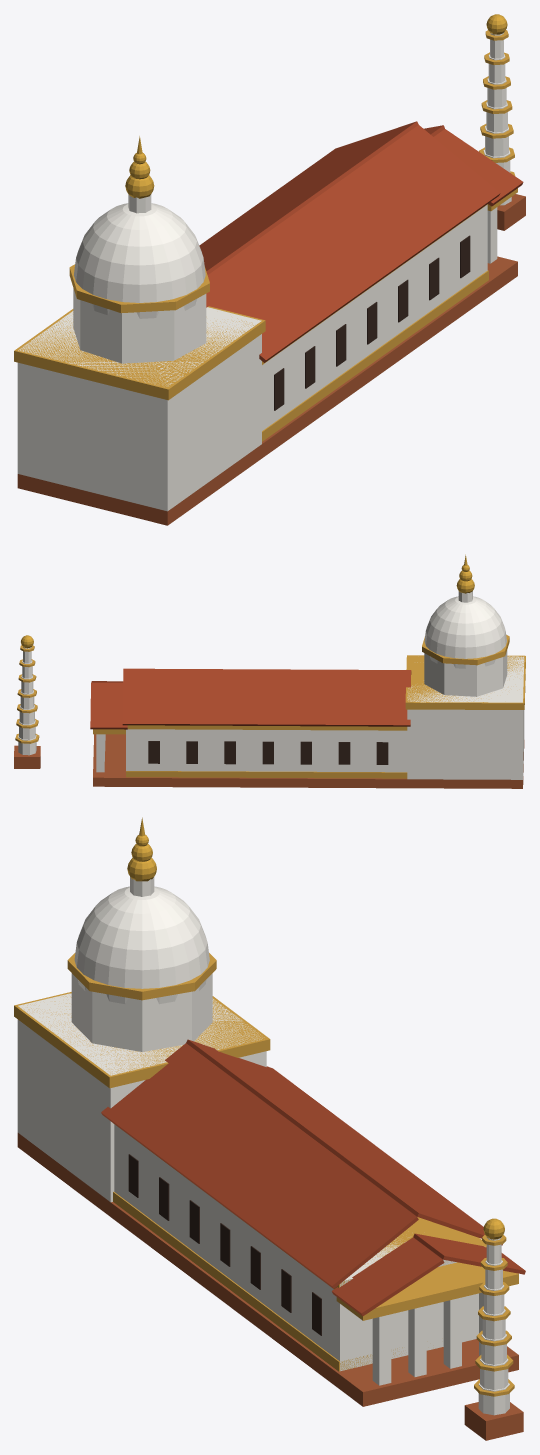
The model's file is mahalaxmi.glb.
The picture shows the model from 3 angles, top to bottom: view 1: azimuth 30°, elevation 25°; view 2: azimuth 150°, elevation 25°; view 3: azimuth 270°, elevation 25°; orthographic projection. The views are drawn at different scales.
Parts seen in each view (by area): view 1: Cube.018, m, Cube.001, Sphere, Cube, Cube.019, m.001, Cylinder, Cube.002, m.002, Cylinder.001, Cube.025; view 2: m.001, Cube.001, Cube.018, Cube, Sphere, Cylinder, Cube.019, Cube.002, m.003, Cube.003, Cylinder.001, Cube.025 (+6 smaller); view 3: m, Cube.001, Cube.018, Sphere, Cube, m.001, Cylinder, Cube.019, m.002, Cube.024, Cube.002, Cylinder.001 (+6 smaller).
Part boxes in pixels (left/top/right/bottom): Cube.018: left=17, top=307, right=261, bottom=511; m: left=206, top=125, right=500, bottom=362; Cube.001: left=262, top=205, right=487, bottom=430; Sphere: left=74, top=203, right=205, bottom=318; Cube: left=17, top=256, right=517, bottom=525; Cube.019: left=14, top=306, right=265, bottom=400; m.001: left=199, top=121, right=418, bottom=274; Cylinder: left=73, top=288, right=206, bottom=363; Cube.002: left=262, top=270, right=488, bottom=441; m.002: left=434, top=129, right=523, bottom=206; Cylinder.001: left=69, top=264, right=209, bottom=313; Cube.025: left=497, top=194, right=525, bottom=230; m.001: left=122, top=668, right=411, bottom=726; Cube.001: left=126, top=729, right=407, bottom=772; Cube.018: left=407, top=656, right=524, bottom=779; Cube: left=93, top=734, right=524, bottom=788; Sphere: left=424, top=596, right=506, bottom=668; Cylinder: left=424, top=650, right=507, bottom=696; Cube.019: left=405, top=655, right=525, bottom=709; Cube.002: left=126, top=771, right=407, bottom=778; m.003: left=90, top=682, right=127, bottom=729; Cube.003: left=127, top=725, right=407, bottom=730; Cylinder.001: left=422, top=635, right=509, bottom=665; Cube.025: left=14, top=745, right=40, bottom=768; m: left=101, top=1043, right=418, bottom=1288; Cube.001: left=114, top=1124, right=478, bottom=1371; Cube.018: left=17, top=993, right=266, bottom=1202; Sphere: left=74, top=886, right=209, bottom=1004; Cube: left=17, top=1133, right=518, bottom=1406; m.001: left=186, top=1039, right=502, bottom=1245; Cylinder: left=71, top=973, right=212, bottom=1051; Cube.019: left=14, top=992, right=270, bottom=1088; m.002: left=332, top=1237, right=444, bottom=1316; Cube.024: left=336, top=1262, right=518, bottom=1320; Cube.002: left=113, top=1192, right=402, bottom=1371; Cylinder.001: left=67, top=953, right=216, bottom=1000.
Size of the model in its own units: 57.99 by 28.2 by 37.76.
